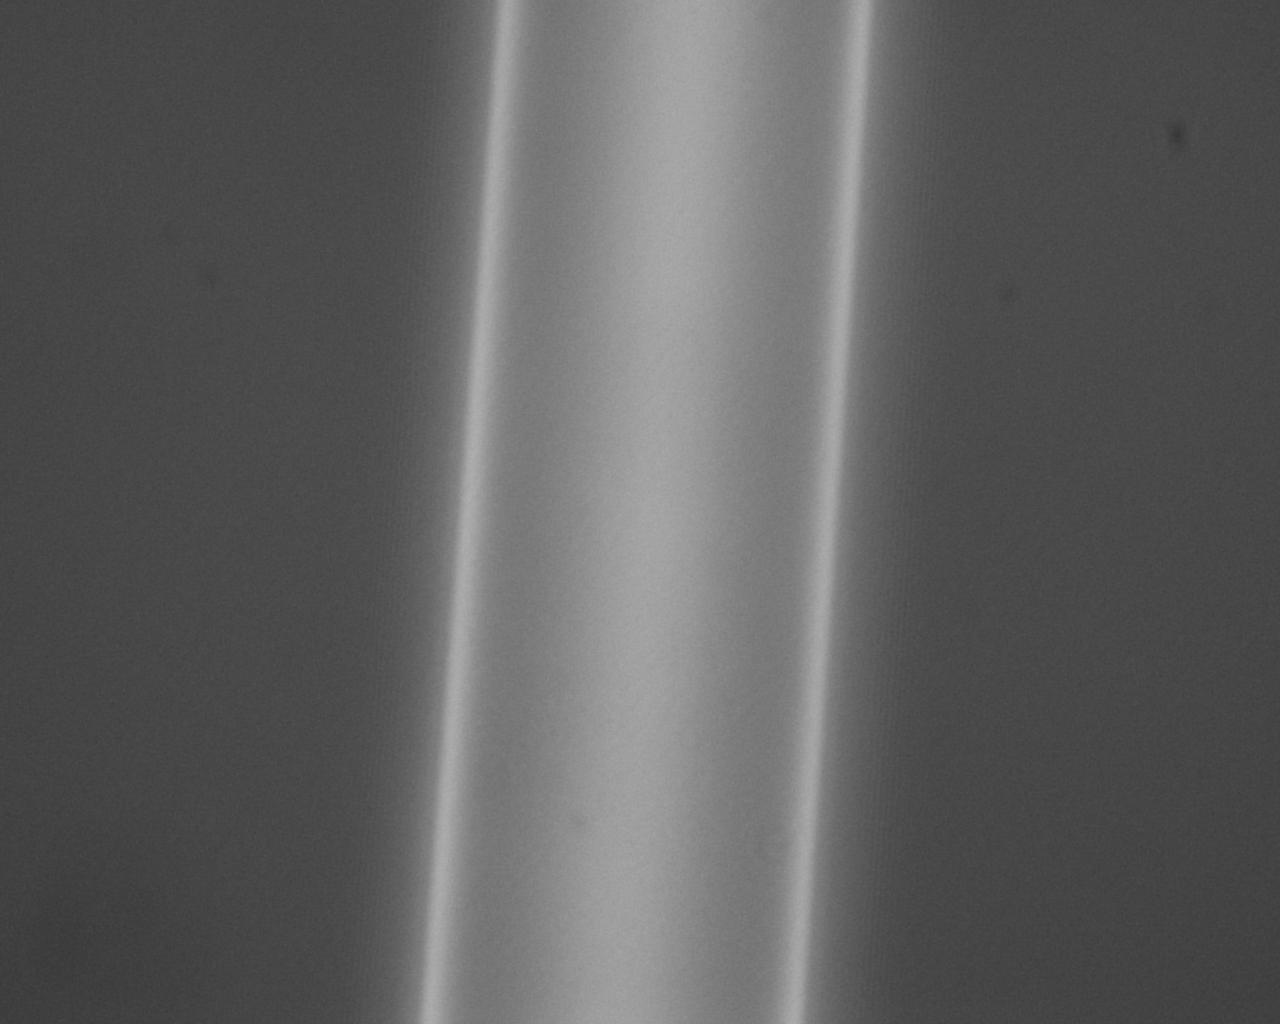fiber: (47, 0, 265, 471), (1158, 471, 1280, 1024), (248, 471, 844, 564), (917, 0, 991, 471)
